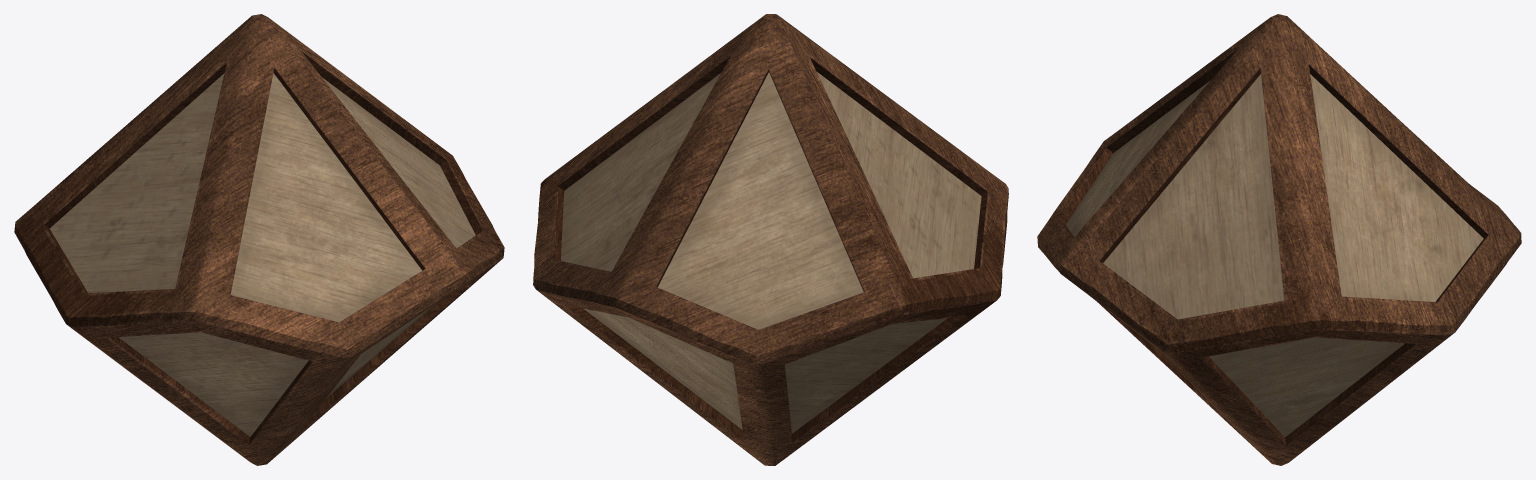
3 renders of one model, left to right at view 1: azimuth 30°, elevation 25°; view 2: azimuth 150°, elevation 25°; view 3: azimuth 270°, elevation 25°, orthographic.
Visible parts, largest first — view 1: pPlatonic7; view 2: pPlatonic7; view 3: pPlatonic7.
Boxes of the visible parts, x1,y1,x2,y2 form: pPlatonic7: (14,14,504,465); pPlatonic7: (533,14,1008,465); pPlatonic7: (1037,14,1521,465).
Size of the model in its own units: 0.0334 by 0.0338 by 0.0334.
1 material, 1 textured.
